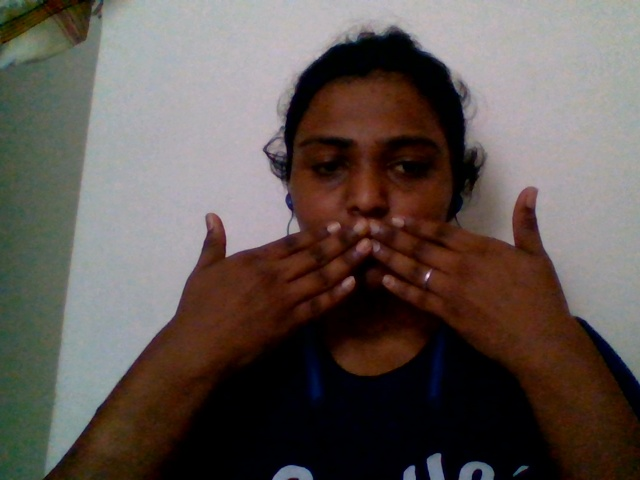Thanks: (124, 165, 607, 385)
